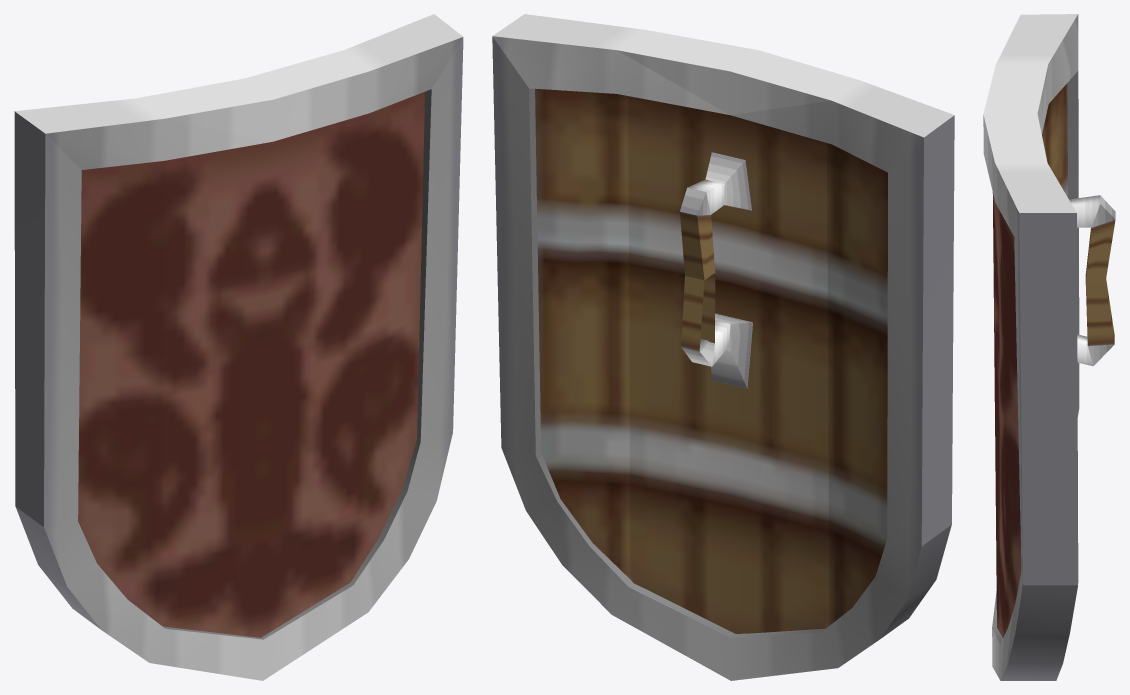
File: Escudo.fbx
The picture shows the model from 3 angles, left to right: view 1: azimuth 30°, elevation 25°; view 2: azimuth 150°, elevation 25°; view 3: azimuth 270°, elevation 25°; orthographic projection. The views are drawn at different scales.
Parts seen in each view (by area): view 1: Object_1; view 2: Object_1; view 3: Object_1.
Part boxes in pixels (box(x1,y1,x2,y2)): Object_1: box(14, 14, 463, 680); Object_1: box(492, 14, 954, 680); Object_1: box(983, 14, 1115, 680).
Bounding box in the file's own units: 98.59 × 132 × 28.31.
Materials: 1 (1 with a texture image).
